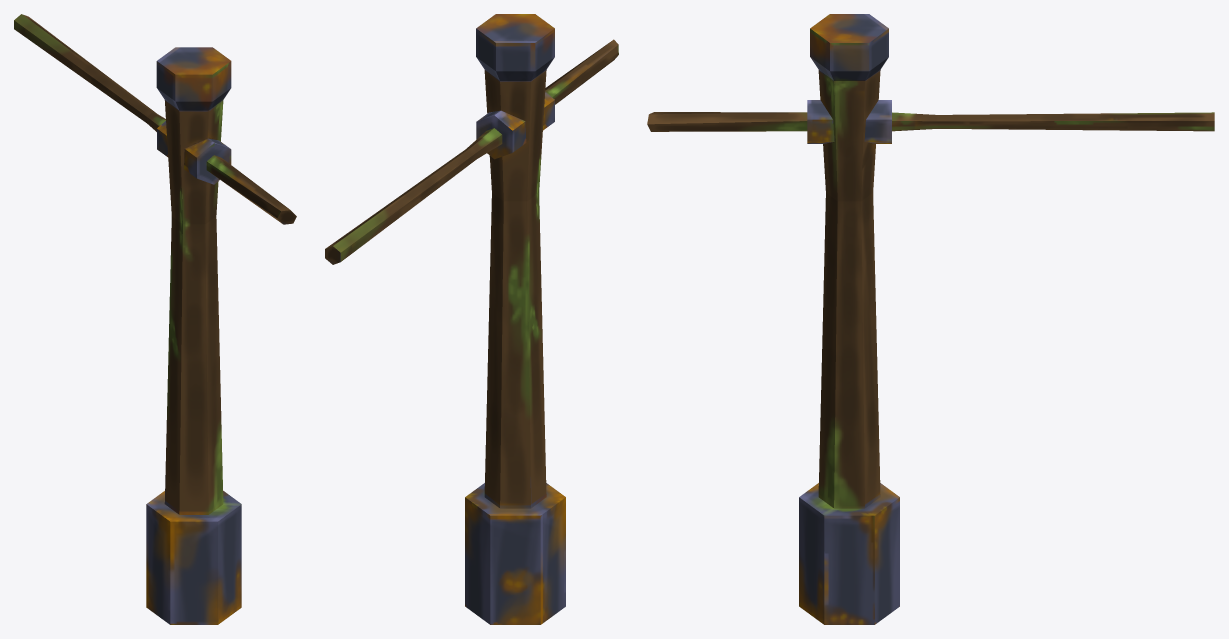
File: mast.fbx
The picture shows the model from 3 angles, left to right: view 1: azimuth 30°, elevation 25°; view 2: azimuth 150°, elevation 25°; view 3: azimuth 270°, elevation 25°; orthographic projection. The views are drawn at different scales.
Parts seen in each view (by area): view 1: Mast; view 2: Mast; view 3: Mast.
Part boxes in pixels (x1,y1,x2,y2): Mast: (14, 14, 296, 624); Mast: (325, 14, 618, 624); Mast: (647, 14, 1214, 624).
Size of the model in its own units: 173 by 1264 by 1125.
